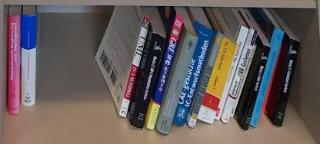book-spine: (165, 21, 216, 130), (145, 13, 186, 131), (154, 31, 199, 137), (219, 29, 259, 126), (247, 27, 285, 129), (197, 36, 240, 126), (186, 30, 224, 130), (211, 25, 249, 122), (128, 33, 166, 130), (118, 15, 152, 119), (270, 38, 302, 128), (239, 45, 271, 133), (229, 45, 257, 120), (261, 42, 284, 114), (20, 14, 36, 107), (7, 15, 19, 116)
